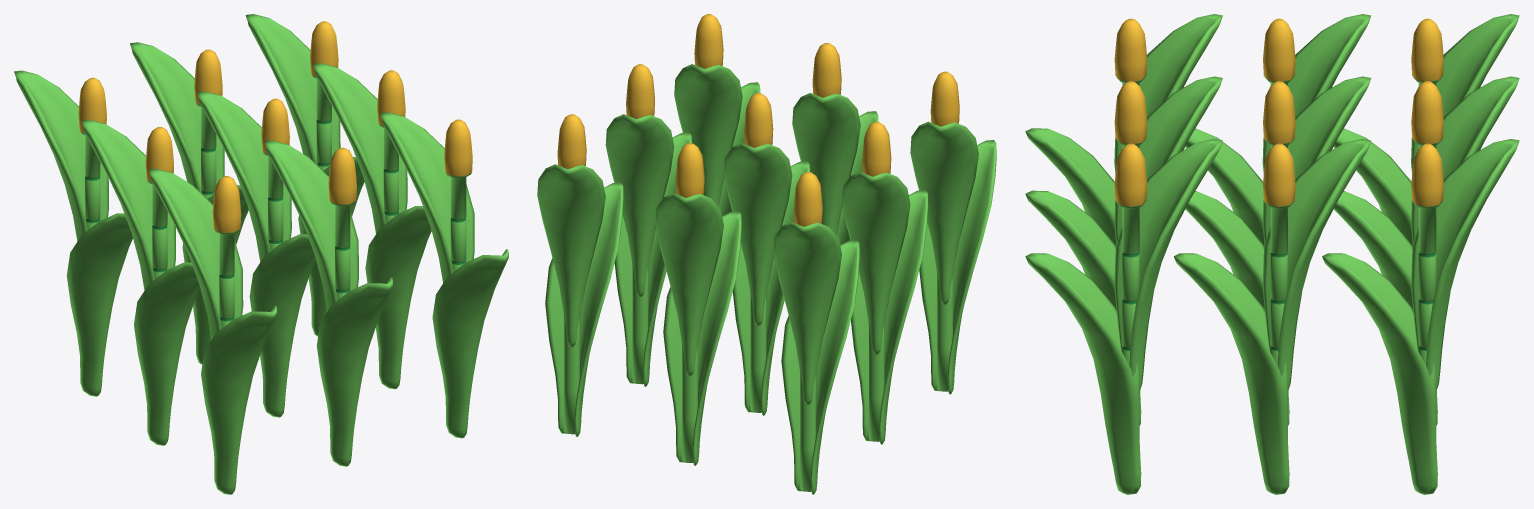
Rendered from CornMiddle.fbx.
The picture shows the model from 3 angles, left to right: view 1: azimuth 30°, elevation 25°; view 2: azimuth 150°, elevation 25°; view 3: azimuth 270°, elevation 25°; orthographic projection. The views are drawn at different scales.
Parts seen in each view (by area): view 1: CornMiddle; view 2: CornMiddle; view 3: CornMiddle.
Part boxes in pixels (x1,y1,x2,y2): CornMiddle: [14, 14, 508, 494]; CornMiddle: [537, 14, 996, 494]; CornMiddle: [1025, 14, 1519, 494].
Size of the model in its own units: 98.1 by 97.73 by 126.
